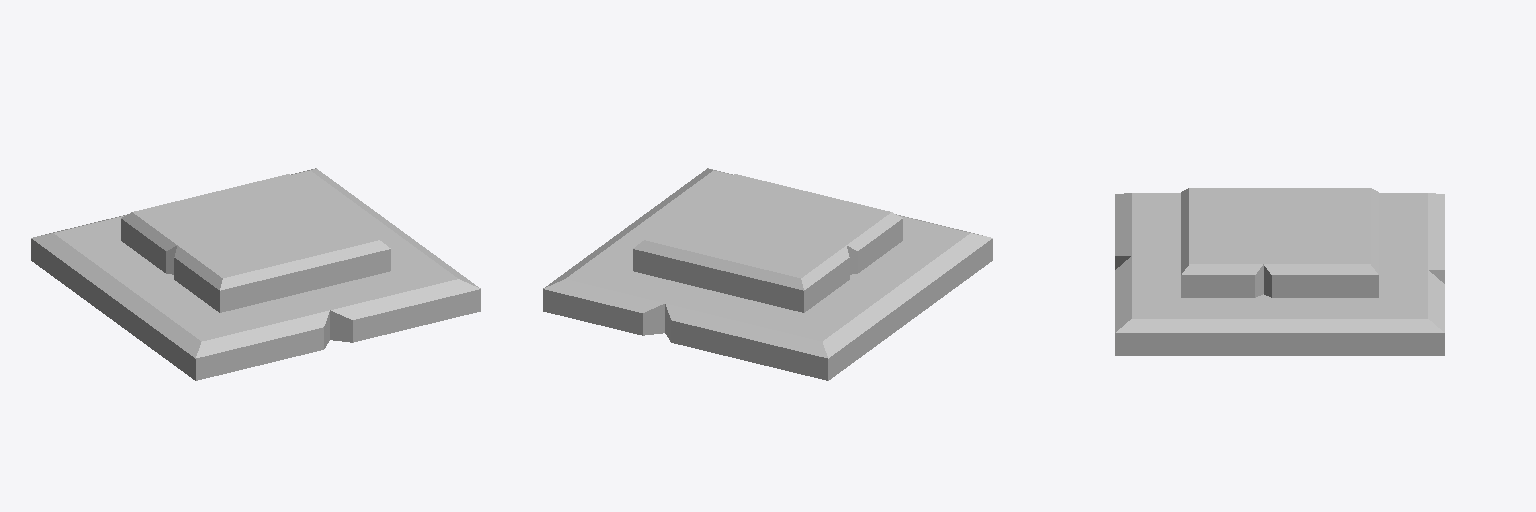
File: plaque.obj
The picture shows the model from 3 angles: view 1: azimuth 30°, elevation 25°; view 2: azimuth 150°, elevation 25°; view 3: azimuth 270°, elevation 25°; orthographic projection.
Parts seen in each view (by area): view 1: plaque_Cube.116; view 2: plaque_Cube.116; view 3: plaque_Cube.116.
Part boxes in pixels (bbox=[...]): plaque_Cube.116: bbox=[31, 168, 480, 380]; plaque_Cube.116: bbox=[543, 168, 992, 380]; plaque_Cube.116: bbox=[1115, 188, 1444, 355].
Size of the model in its own units: 2 by 0.4 by 2.